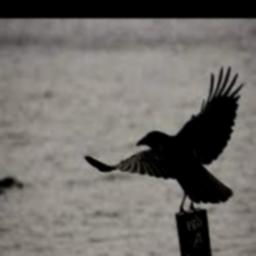Crow: (84, 65, 245, 212)
